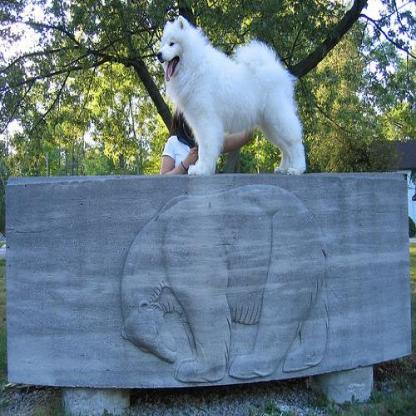Samoyed: (155, 11, 304, 174)
